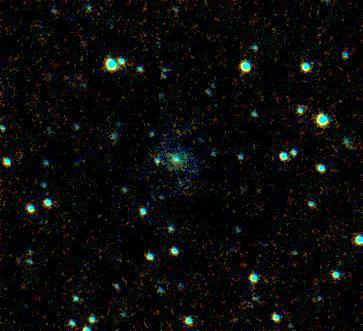star: (227, 247, 257, 277)
